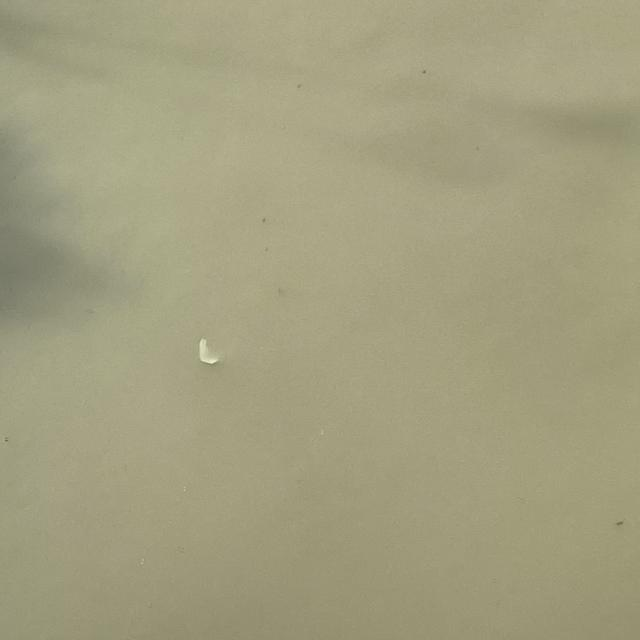Plastic: (190, 332, 225, 372)
